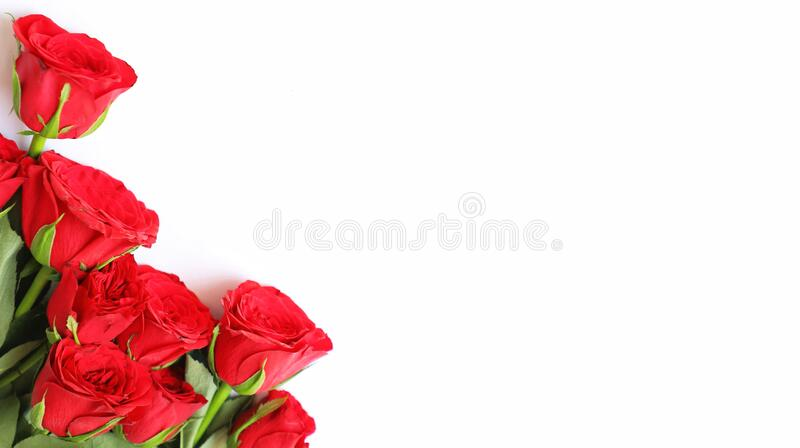RedRose: (8, 10, 145, 158), (21, 143, 173, 272), (21, 333, 159, 443), (222, 263, 333, 393)
